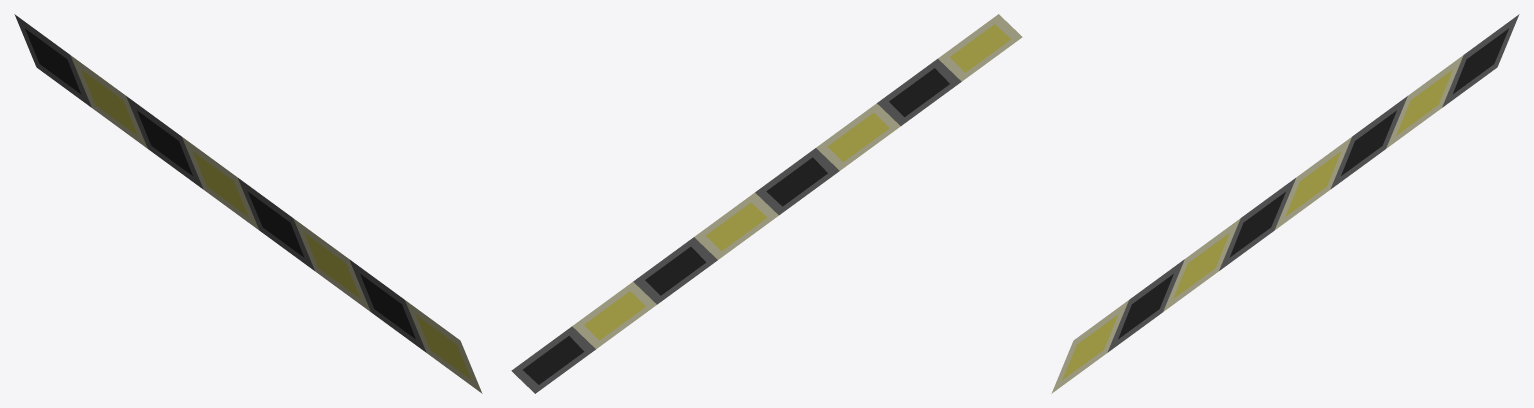
File: ConstructionTapeLarge_14.glb
3 renders of one model, left to right at view 1: azimuth 30°, elevation 25°; view 2: azimuth 150°, elevation 25°; view 3: azimuth 330°, elevation 25°, orthographic. The views are drawn at different scales.
Visible parts, largest first — view 1: ConstructionTapeLarge; view 2: ConstructionTapeLarge; view 3: ConstructionTapeLarge.
Part boxes in pixels (left/top/right/bottom): ConstructionTapeLarge: left=14, top=14, right=482, bottom=393; ConstructionTapeLarge: left=511, top=14, right=1022, bottom=393; ConstructionTapeLarge: left=1051, top=14, right=1519, bottom=393.
Bounding box in the file's own units: 0 × 0.0917 × 2.09.
